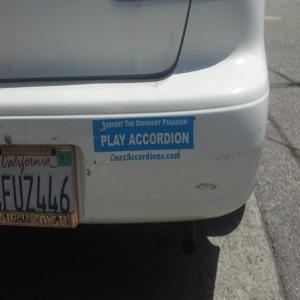Vehicle-registration-plate: (4, 130, 83, 225)
